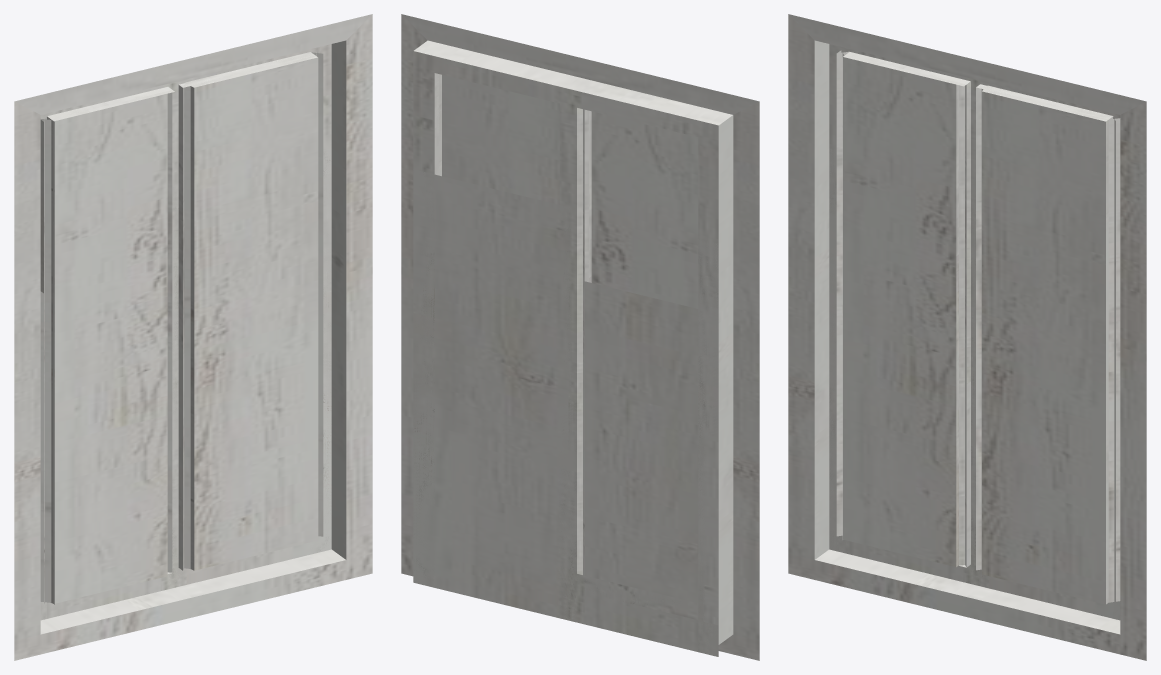
The model's file is bedroomdoor.glb.
3 views of the same model, side by side, from view 1: azimuth 30°, elevation 25°; view 2: azimuth 150°, elevation 25°; view 3: azimuth 330°, elevation 25° (orthographic).
Visible parts, largest first — view 1: Plane.008; view 2: Plane.008; view 3: Plane.008.
Part boxes in pixels (bbox=[...]): Plane.008: bbox=[14, 14, 372, 660]; Plane.008: bbox=[401, 14, 759, 660]; Plane.008: bbox=[788, 14, 1146, 660].
Size of the model in its own units: 1.74 by 2.6 by 0.1211.
Materials: 1 (1 with a texture image).
